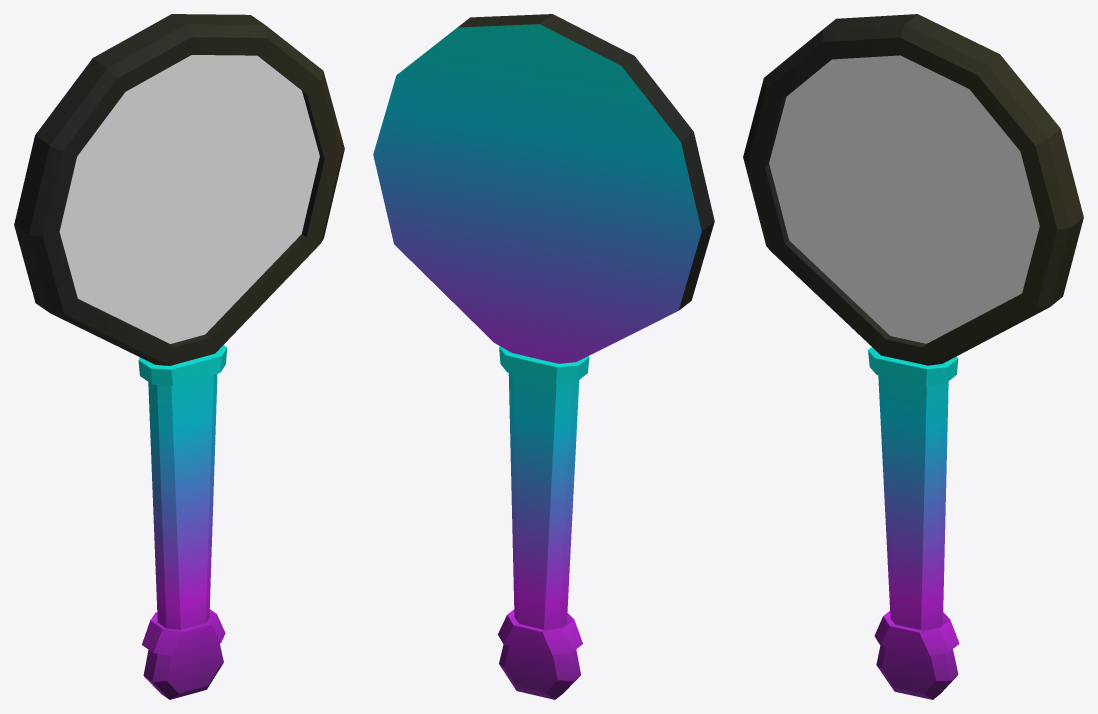
File: mirror.glb
The picture shows the model from 3 angles, left to right: view 1: azimuth 30°, elevation 25°; view 2: azimuth 150°, elevation 25°; view 3: azimuth 330°, elevation 25°; orthographic projection.
Visible parts, largest first — view 1: Circle.014; view 2: Circle.014; view 3: Circle.014.
Part boxes in pixels (box(x1,y1,x2,y2)): Circle.014: box(14, 14, 344, 699); Circle.014: box(373, 14, 714, 699); Circle.014: box(743, 14, 1083, 699).
Bounding box in the file's own units: 1.46 × 2.91 × 0.2243.
1 material, 1 textured.
